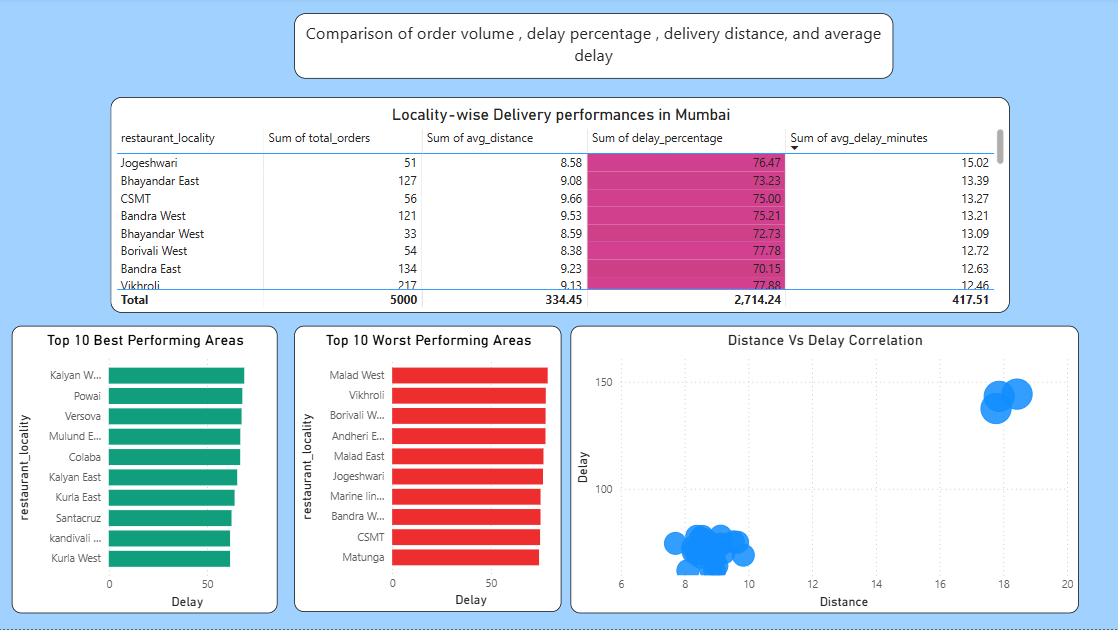

The dashboard page shown, as its layout file describes it:
{"tool":"powerbi","page":{"name":"Geographic analysis","canvas":[1280,720],"ordinal":2},"visuals":[{"type":"tableEx","title":"Locality-wise Delivery performances in Mumbai","fields":{"Values":["public v_locality_performance.restaurant_locality","Sum(public v_locality_performance.total_orders)","Sum(public v_locality_performance.avg_distance)","Sum(public v_locality_performance.delay_percentage)","Sum(public v_locality_performance.avg_delay_minutes)"]},"box":[128.1,113.9,1023.4,245.6],"z":0},{"type":"clusteredBarChart","title":"Top 10 Best Performing Areas","fields":{"Category":["public v_locality_performance.restaurant_locality"],"Y":["Sum(public v_locality_performance.delay_percentage)"]},"box":[16,373.8,302.6,327.5],"z":1000},{"type":"clusteredBarChart","title":"Top 10 Worst Performing Areas","fields":{"Category":["public v_locality_performance.restaurant_locality"],"Y":["Sum(public v_locality_performance.delay_percentage)"]},"box":[336.4,373.8,304.3,325.7],"z":2000},{"type":"scatterChart","title":"Distance Vs Delay Correlation","fields":{"X":["Sum(public v_locality_performance.avg_distance)"],"Y":["Sum(public v_locality_performance.delay_percentage)"],"Category":["public v_locality_performance.total_orders"],"Size":["CountNonNull(public v_locality_performance.restaurant_locality)"]},"box":[651.4,373.8,578.4,327.5],"z":3000},{"type":"textbox","box":[336.4,17.8,681.7,74.8],"z":4000}]}

Visuals, with their boxes in screenshot pixels (x1, y1, x2, y2), scaled from the page's 1280x720 canvas onto the 1118x630 screenshot:
"Locality-wise Delivery performances in Mumbai" tableEx: [left=112, top=100, right=1006, bottom=315]
"Top 10 Best Performing Areas" clusteredBarChart: [left=14, top=327, right=278, bottom=614]
"Top 10 Worst Performing Areas" clusteredBarChart: [left=294, top=327, right=560, bottom=612]
"Distance Vs Delay Correlation" scatterChart: [left=569, top=327, right=1074, bottom=614]
textbox: [left=294, top=16, right=889, bottom=81]
